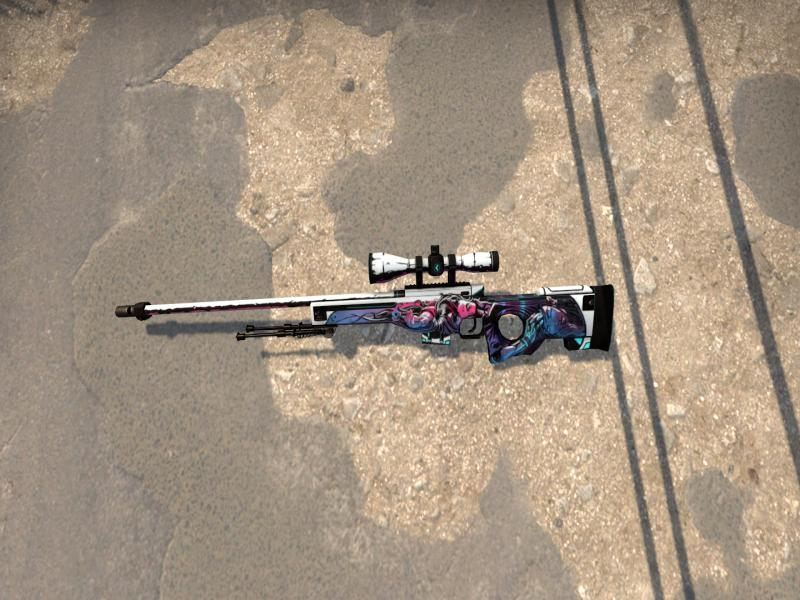AWP: (114, 244, 615, 362)
